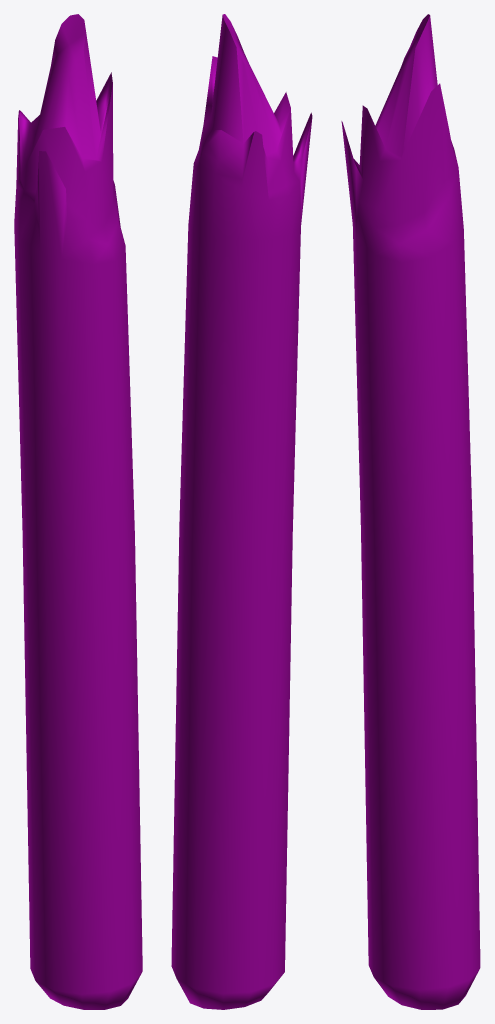
File: Log_Large.fbx
3 renders of one model, left to right at view 1: azimuth 30°, elevation 25°; view 2: azimuth 150°, elevation 25°; view 3: azimuth 330°, elevation 25°, orthographic.
Parts seen in each view (by area): view 1: log_large_chipped1; view 2: log_large_chipped1; view 3: log_large_chipped1.
Boxes of the visible parts, x1=… form: log_large_chipped1: x1=14, y1=14, x2=142, y2=1009; log_large_chipped1: x1=171, y1=14, x2=312, y2=1009; log_large_chipped1: x1=341, y1=14, x2=480, y2=1009.
Bounding box in the file's own units: 2.34 × 19.15 × 1.99.
